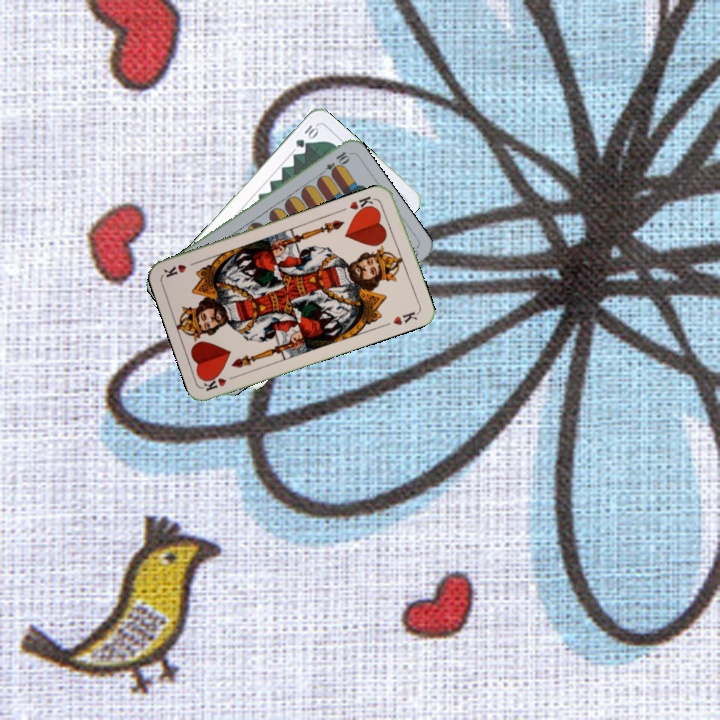E10: (315, 147, 352, 179)
G10: (291, 121, 321, 150)
HK: (200, 371, 241, 394), (346, 192, 379, 217)
